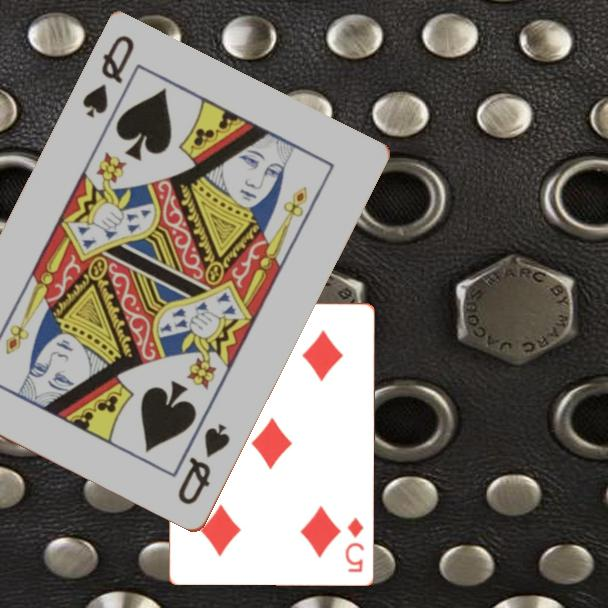d05: (341, 514, 367, 575)
s12: (78, 32, 138, 122), (174, 420, 234, 509)
